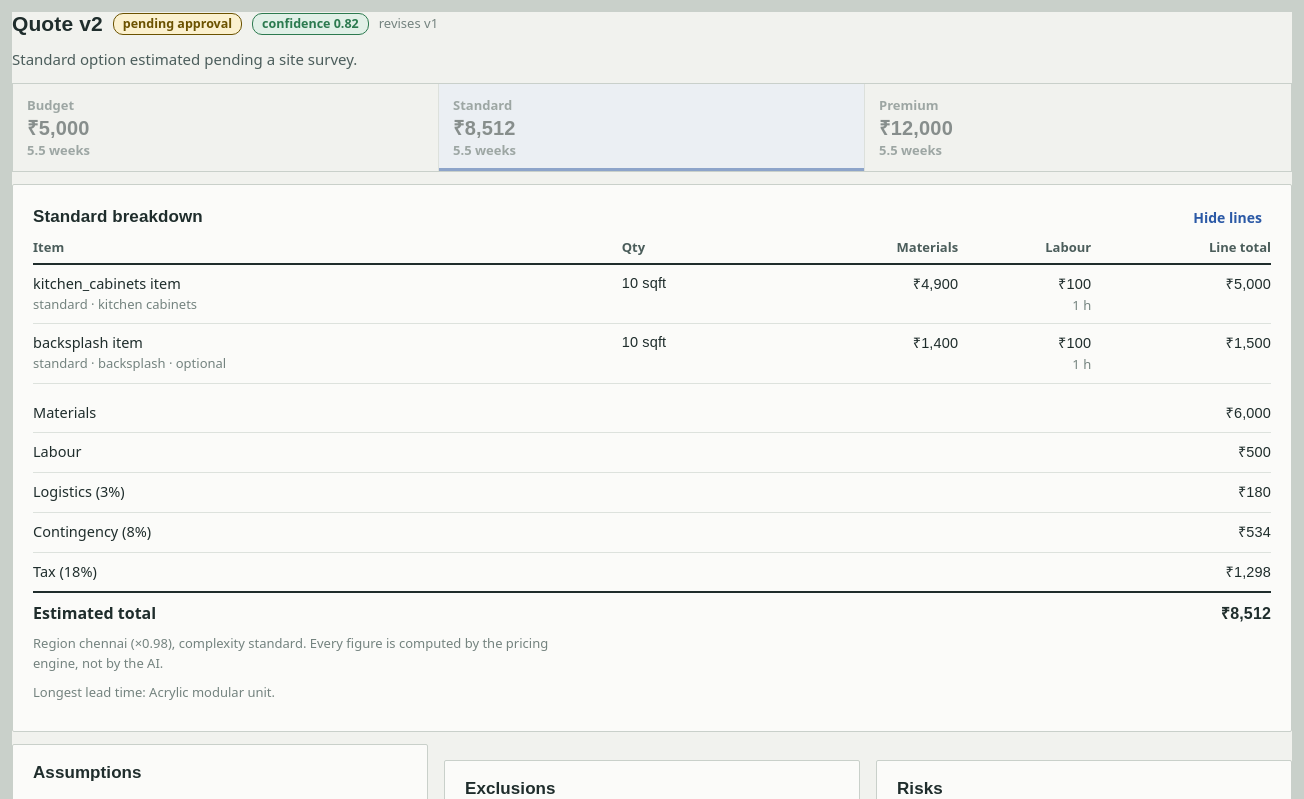
it: QuoteView › can collapse the line items
Expected: the text "kitchen_cabinets item" is shown, [33,273,181,293]
Click the button "Hide lines". click: x=1228, y=217
box: [1184,203,1271,232]
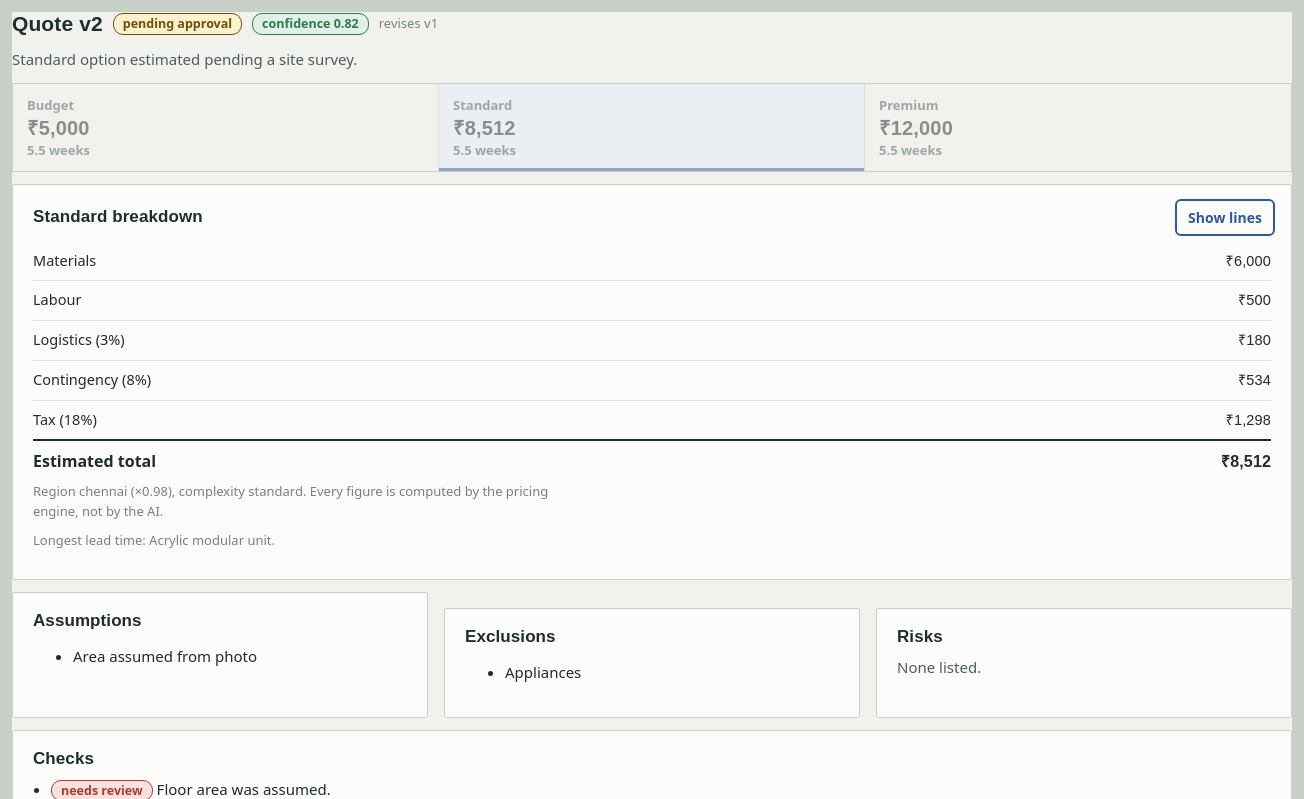
Now the text "kitchen_cabinets item" is gone
